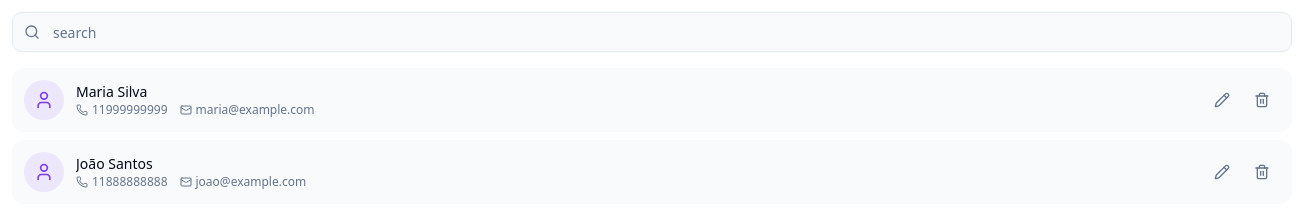
Test: ClientList › with clients › should filter clients by name
Type "Maria" into the field with placeholder "search". click: point(652, 32)
box: [12,12,1292,52]
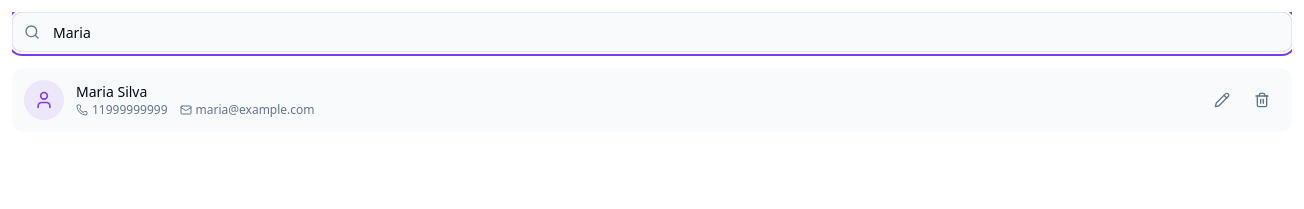
Expected: the text "Maria Silva" is shown, [76,82,147,101]
Expected: the button "João Santos" is gone
